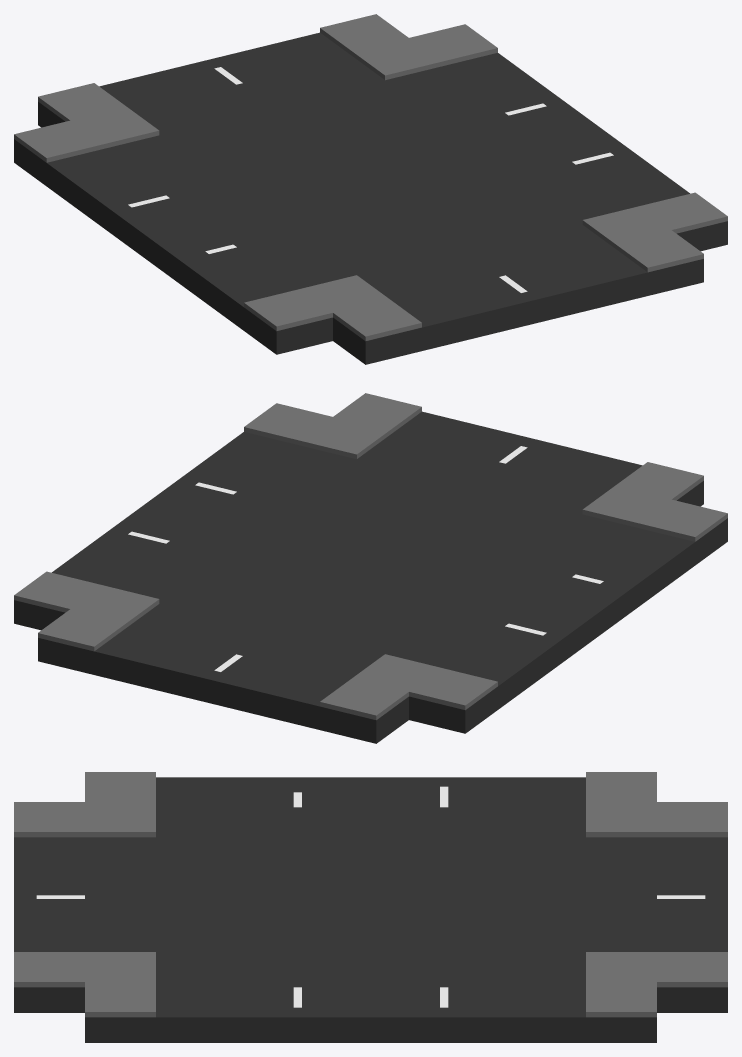
Rendered from Cargo_Cross_3_Seritli_20M.fbx.
3 renders of one model, top to bottom at view 1: azimuth 30°, elevation 25°; view 2: azimuth 150°, elevation 25°; view 3: azimuth 270°, elevation 25°, orthographic. The views are drawn at different scales.
Parts seen in each view (by area): view 1: Cargo_Cross_20m; view 2: Cargo_Cross_20m; view 3: Cargo_Cross_20m.
Boxes of the visible parts, left/top/right/bottom form: Cargo_Cross_20m: left=14, top=14, right=727, bottom=364; Cargo_Cross_20m: left=14, top=393, right=727, bottom=743; Cargo_Cross_20m: left=14, top=772, right=727, bottom=1042.
Size of the model in its own units: 2000 by 120 by 2515.
